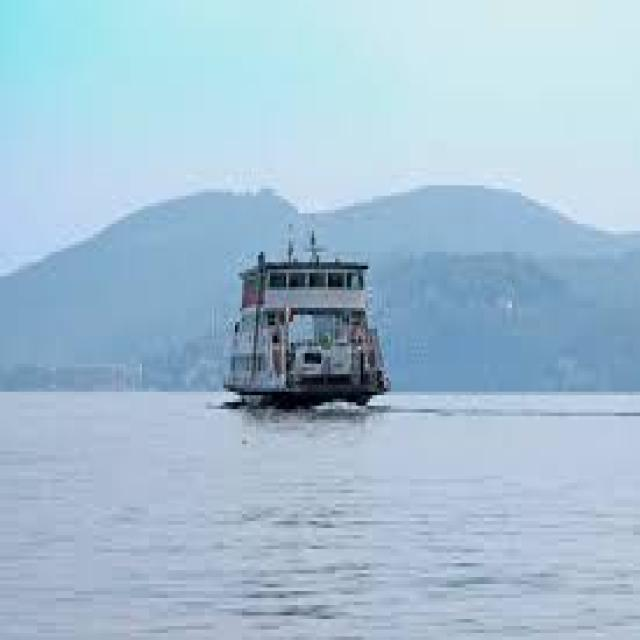cargoship: (231, 230, 400, 430)
